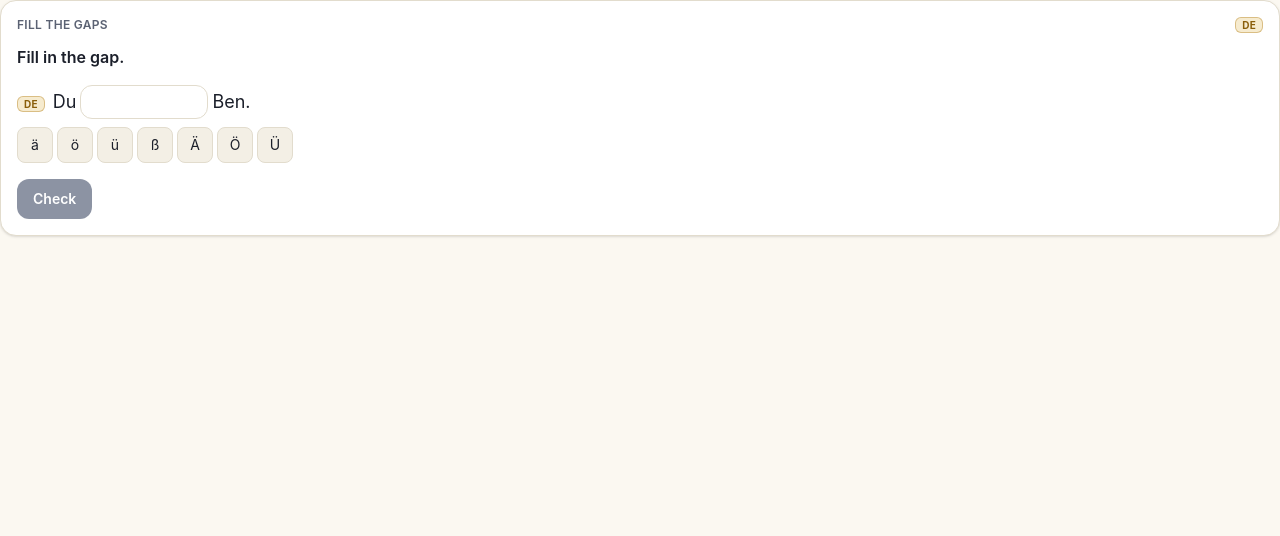
result states › shows a distinct "Almost!" state for a near miss
Type "bisst" into the field named "Gap 1" at (144, 102), box [80,85,208,119]
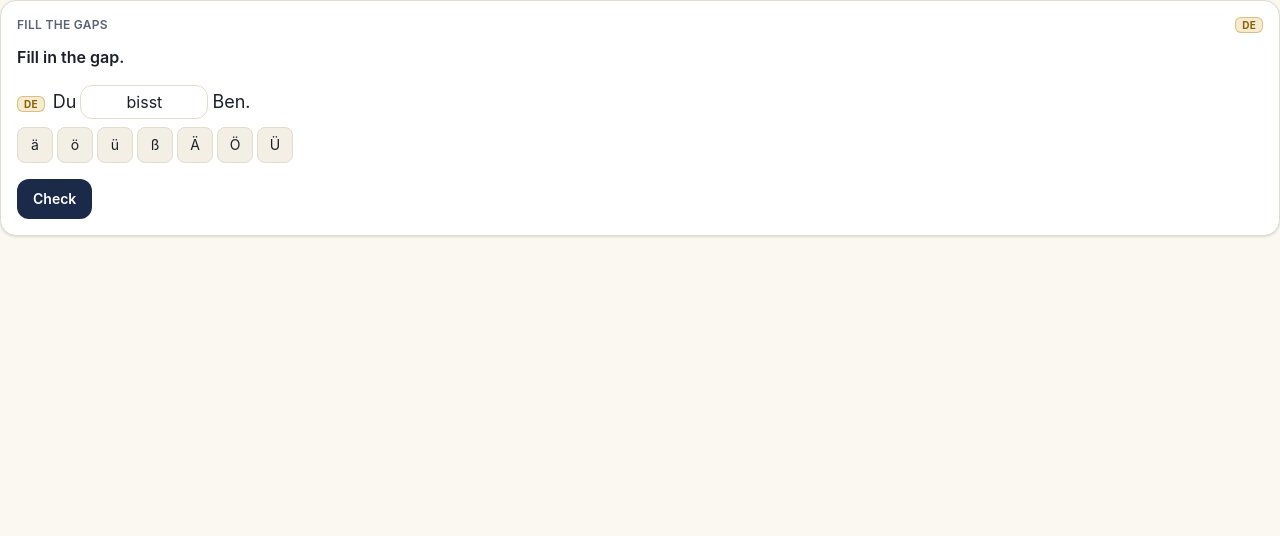
Click the button "Check" at (55, 199), box [17,179,92,219]
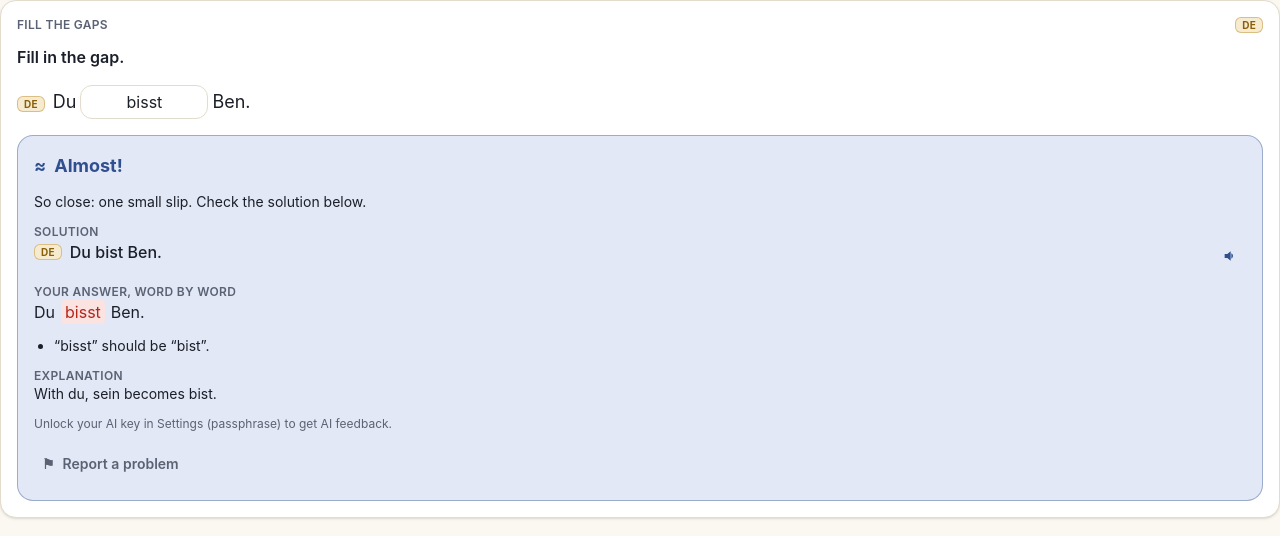
Check: the element named "Result" shows "Almost!", box [54,155,123,176]
